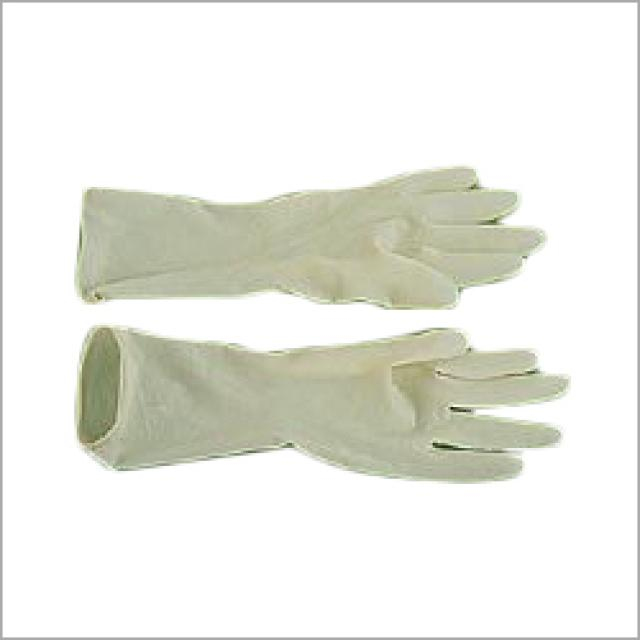Gloves: (51, 318, 584, 515), (72, 149, 558, 325)
